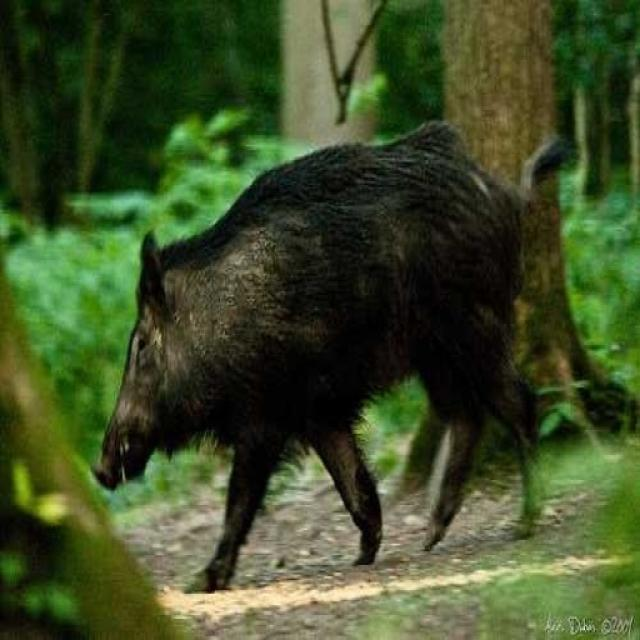pig: (86, 118, 629, 566)
